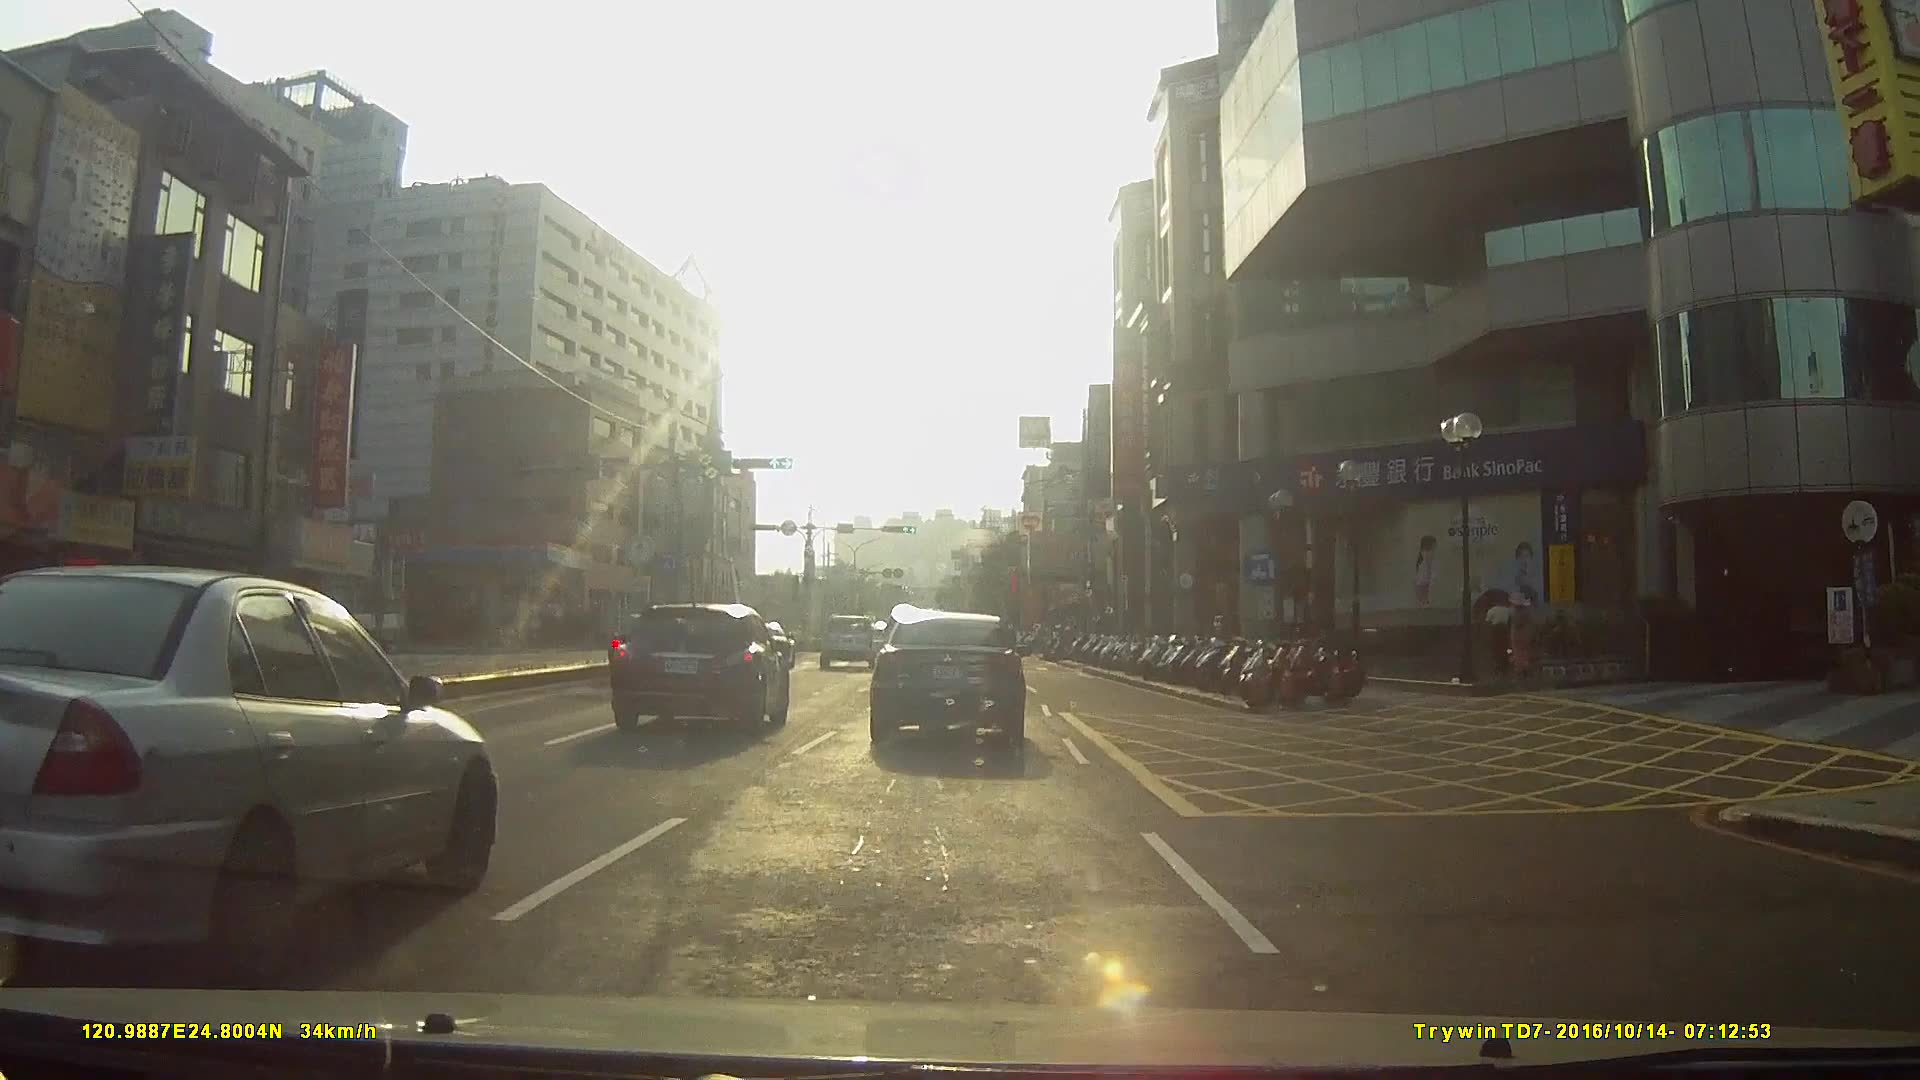pedestrian: (1486, 587, 1523, 674), (1507, 588, 1542, 678)
vehicle: (0, 557, 488, 989), (606, 595, 786, 733), (866, 610, 1025, 750), (813, 612, 875, 670)
